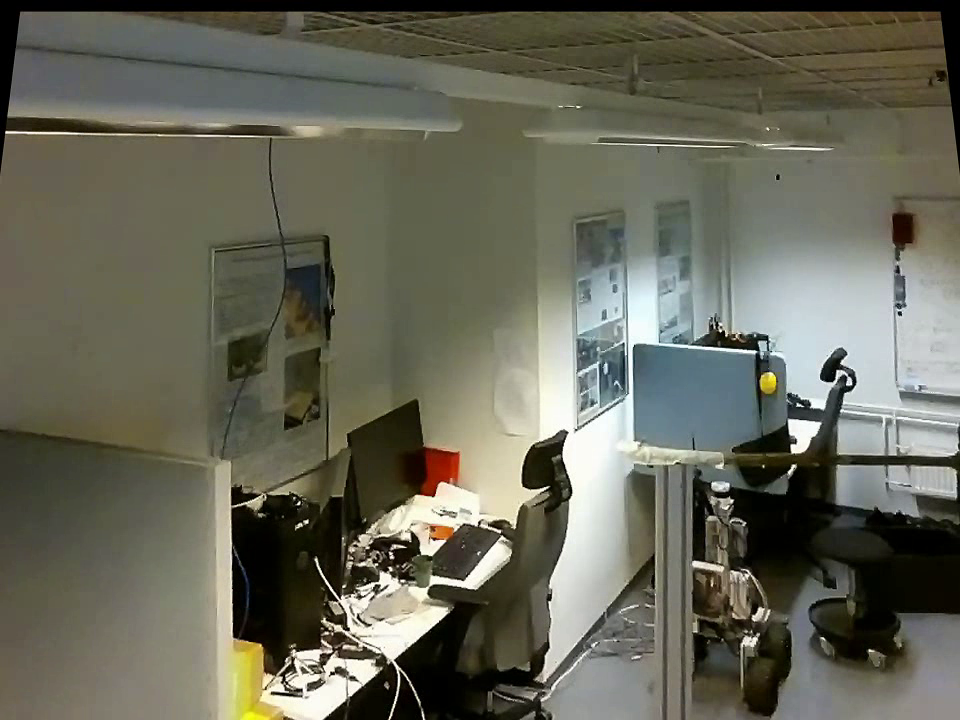aluminum_frame: (650, 465, 696, 718), (884, 190, 904, 384), (892, 377, 957, 402), (890, 191, 955, 207), (891, 192, 957, 201)
branch: (727, 438, 952, 475)
